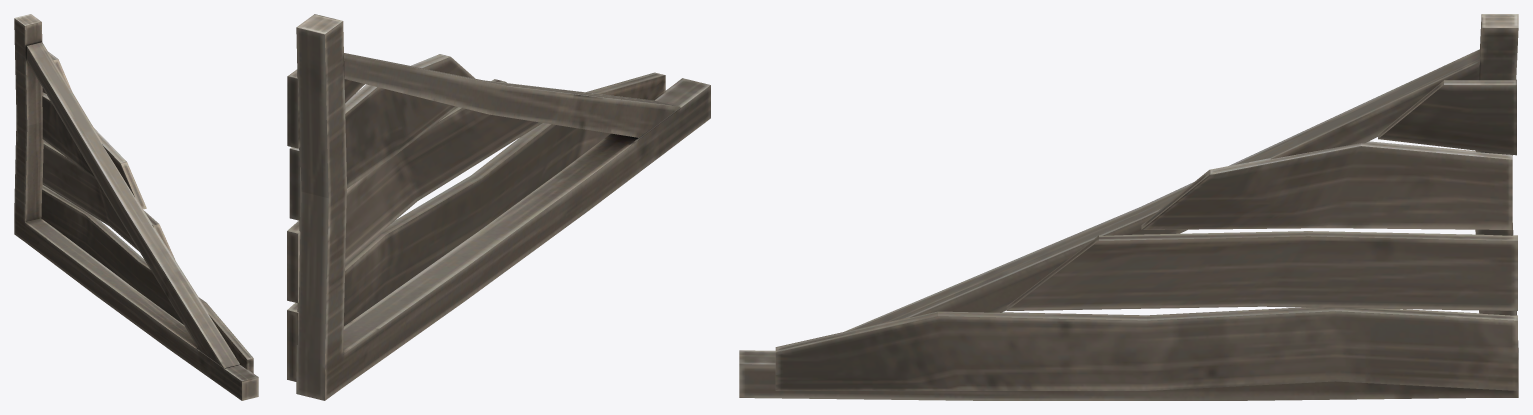
File: Wood_SideRoof_2x_Mirror.glb
The picture shows the model from 3 angles, left to right: view 1: azimuth 30°, elevation 25°; view 2: azimuth 150°, elevation 25°; view 3: azimuth 270°, elevation 25°; orthographic projection. The views are drawn at different scales.
Parts seen in each view (by area): view 1: Wood_SideRoof_2x_Mirror; view 2: Wood_SideRoof_2x_Mirror; view 3: Wood_SideRoof_2x_Mirror.
Boxes of the visible parts, <box> form: Wood_SideRoof_2x_Mirror: <box>14,14,258,400</box>; Wood_SideRoof_2x_Mirror: <box>287,14,710,400</box>; Wood_SideRoof_2x_Mirror: <box>739,14,1518,400</box>.
Size of what is drawn, in the model's own units: 0.1415 by 1.11 by 2.1.
1 material, 1 textured.
